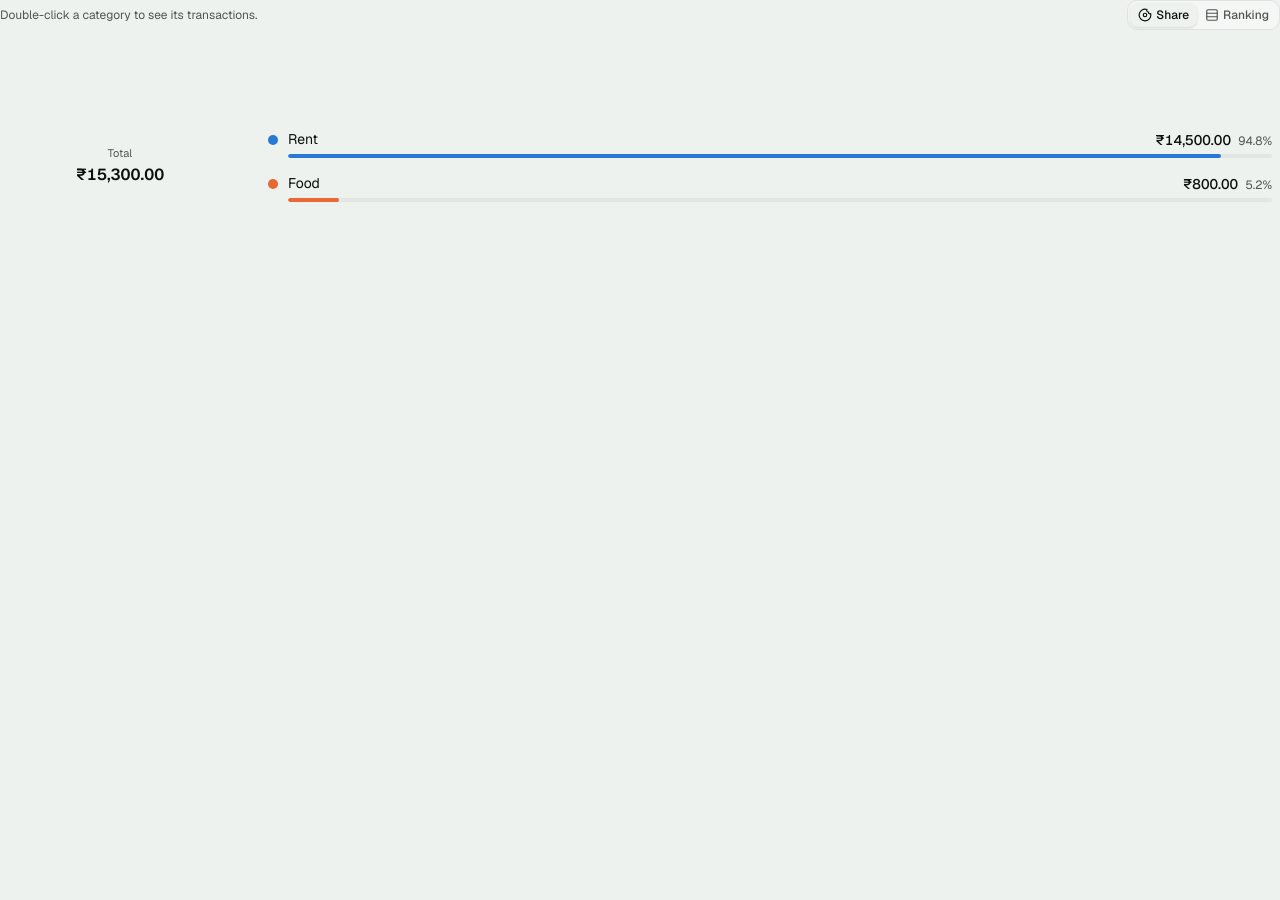
Category transactions pop-up › opens on double-click with the category's transactions and the same total as the chart
Double-click the button "Rent ₹14,500.00 94.8%" at (303,139), box [260,124,1279,164]
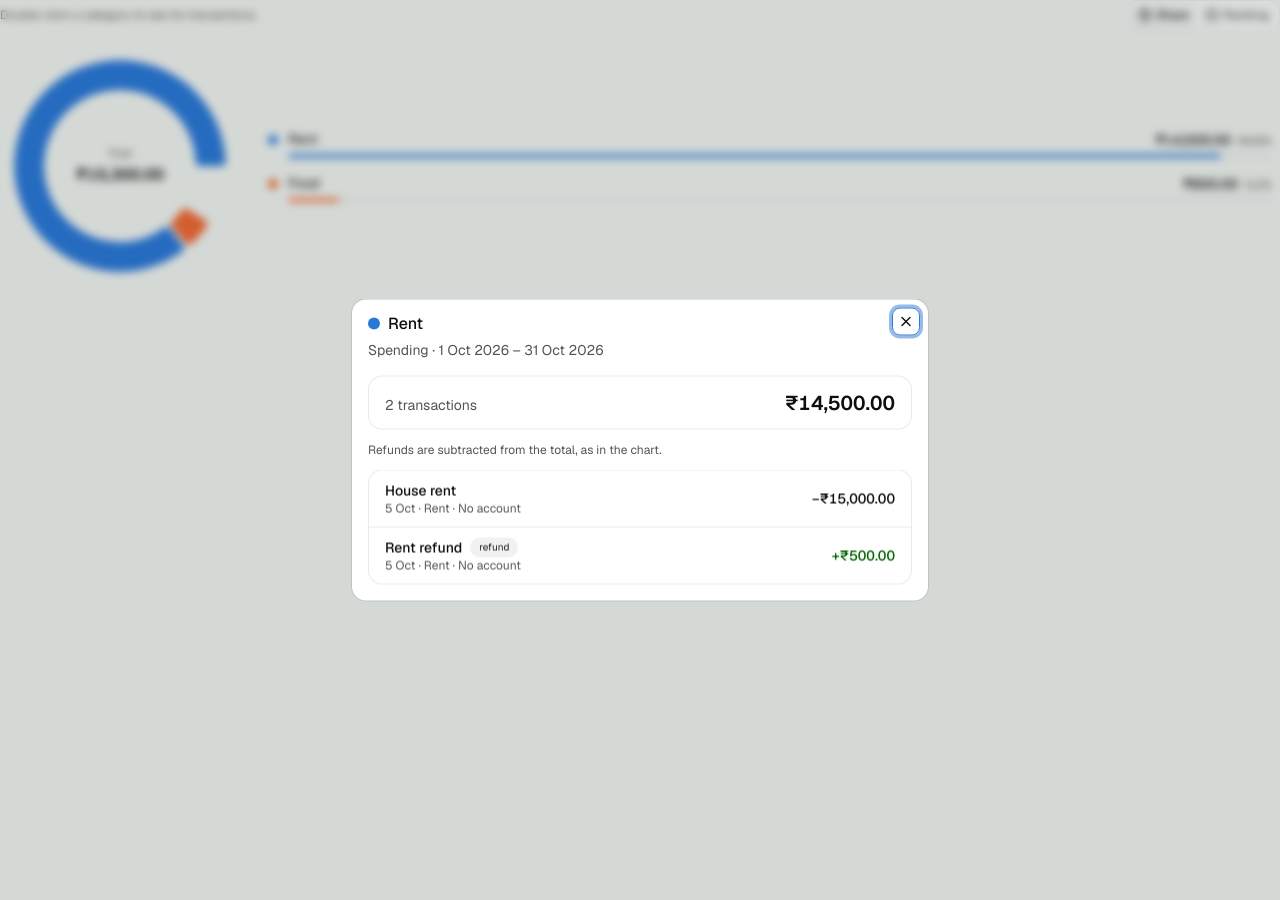
expect the heading "Rent" is shown: met, box [368,312,423,334]
expect the text "House rent" is shown: met, box [385,480,456,500]
expect the text "Rent refund" is shown: met, box [385,538,462,558]
